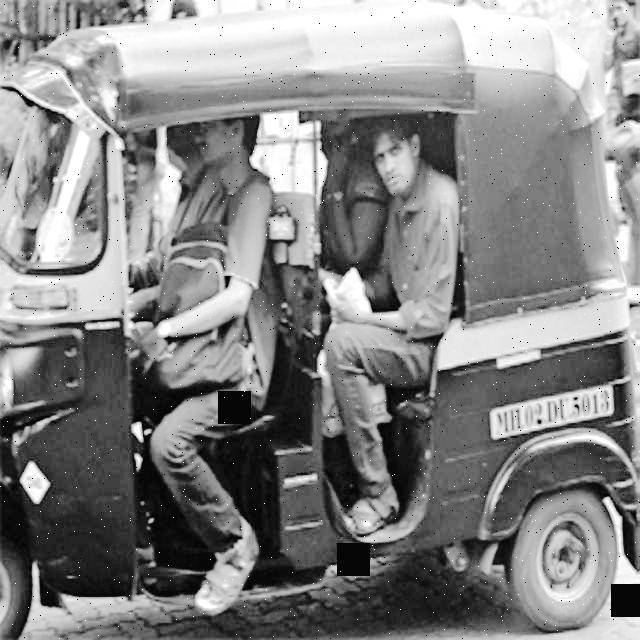Auto-Rickshaw: (13, 30, 640, 620)
